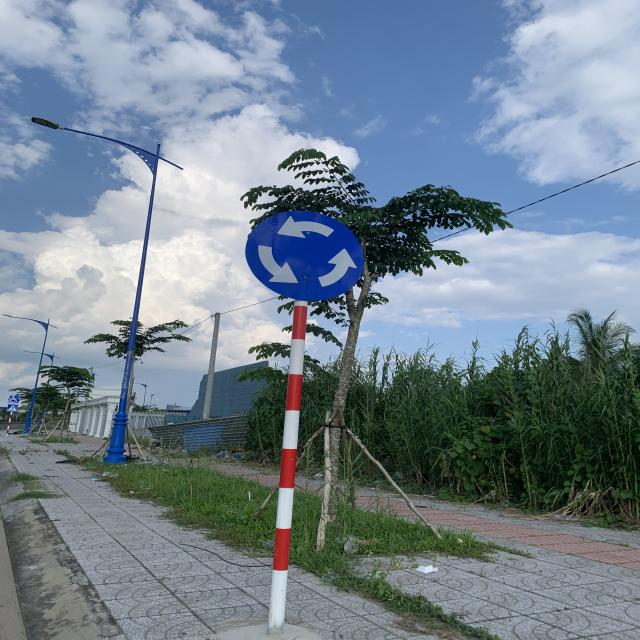Xe_Bus: (245, 210, 366, 302)
